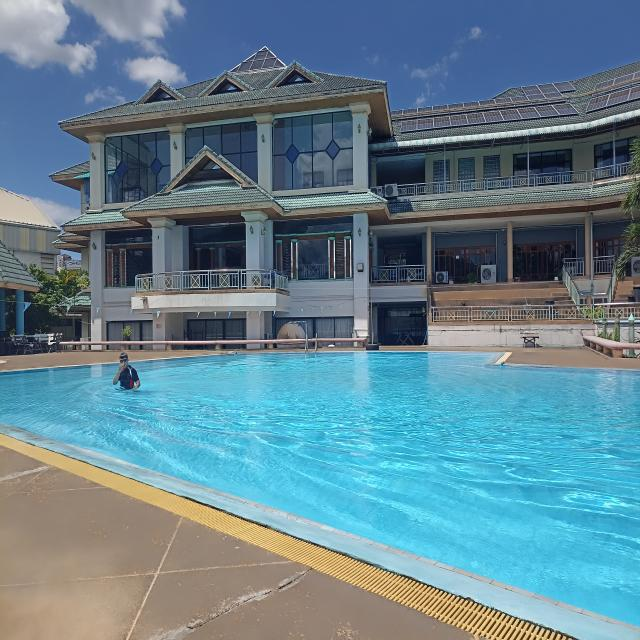Swimming: (108, 349, 144, 402)
